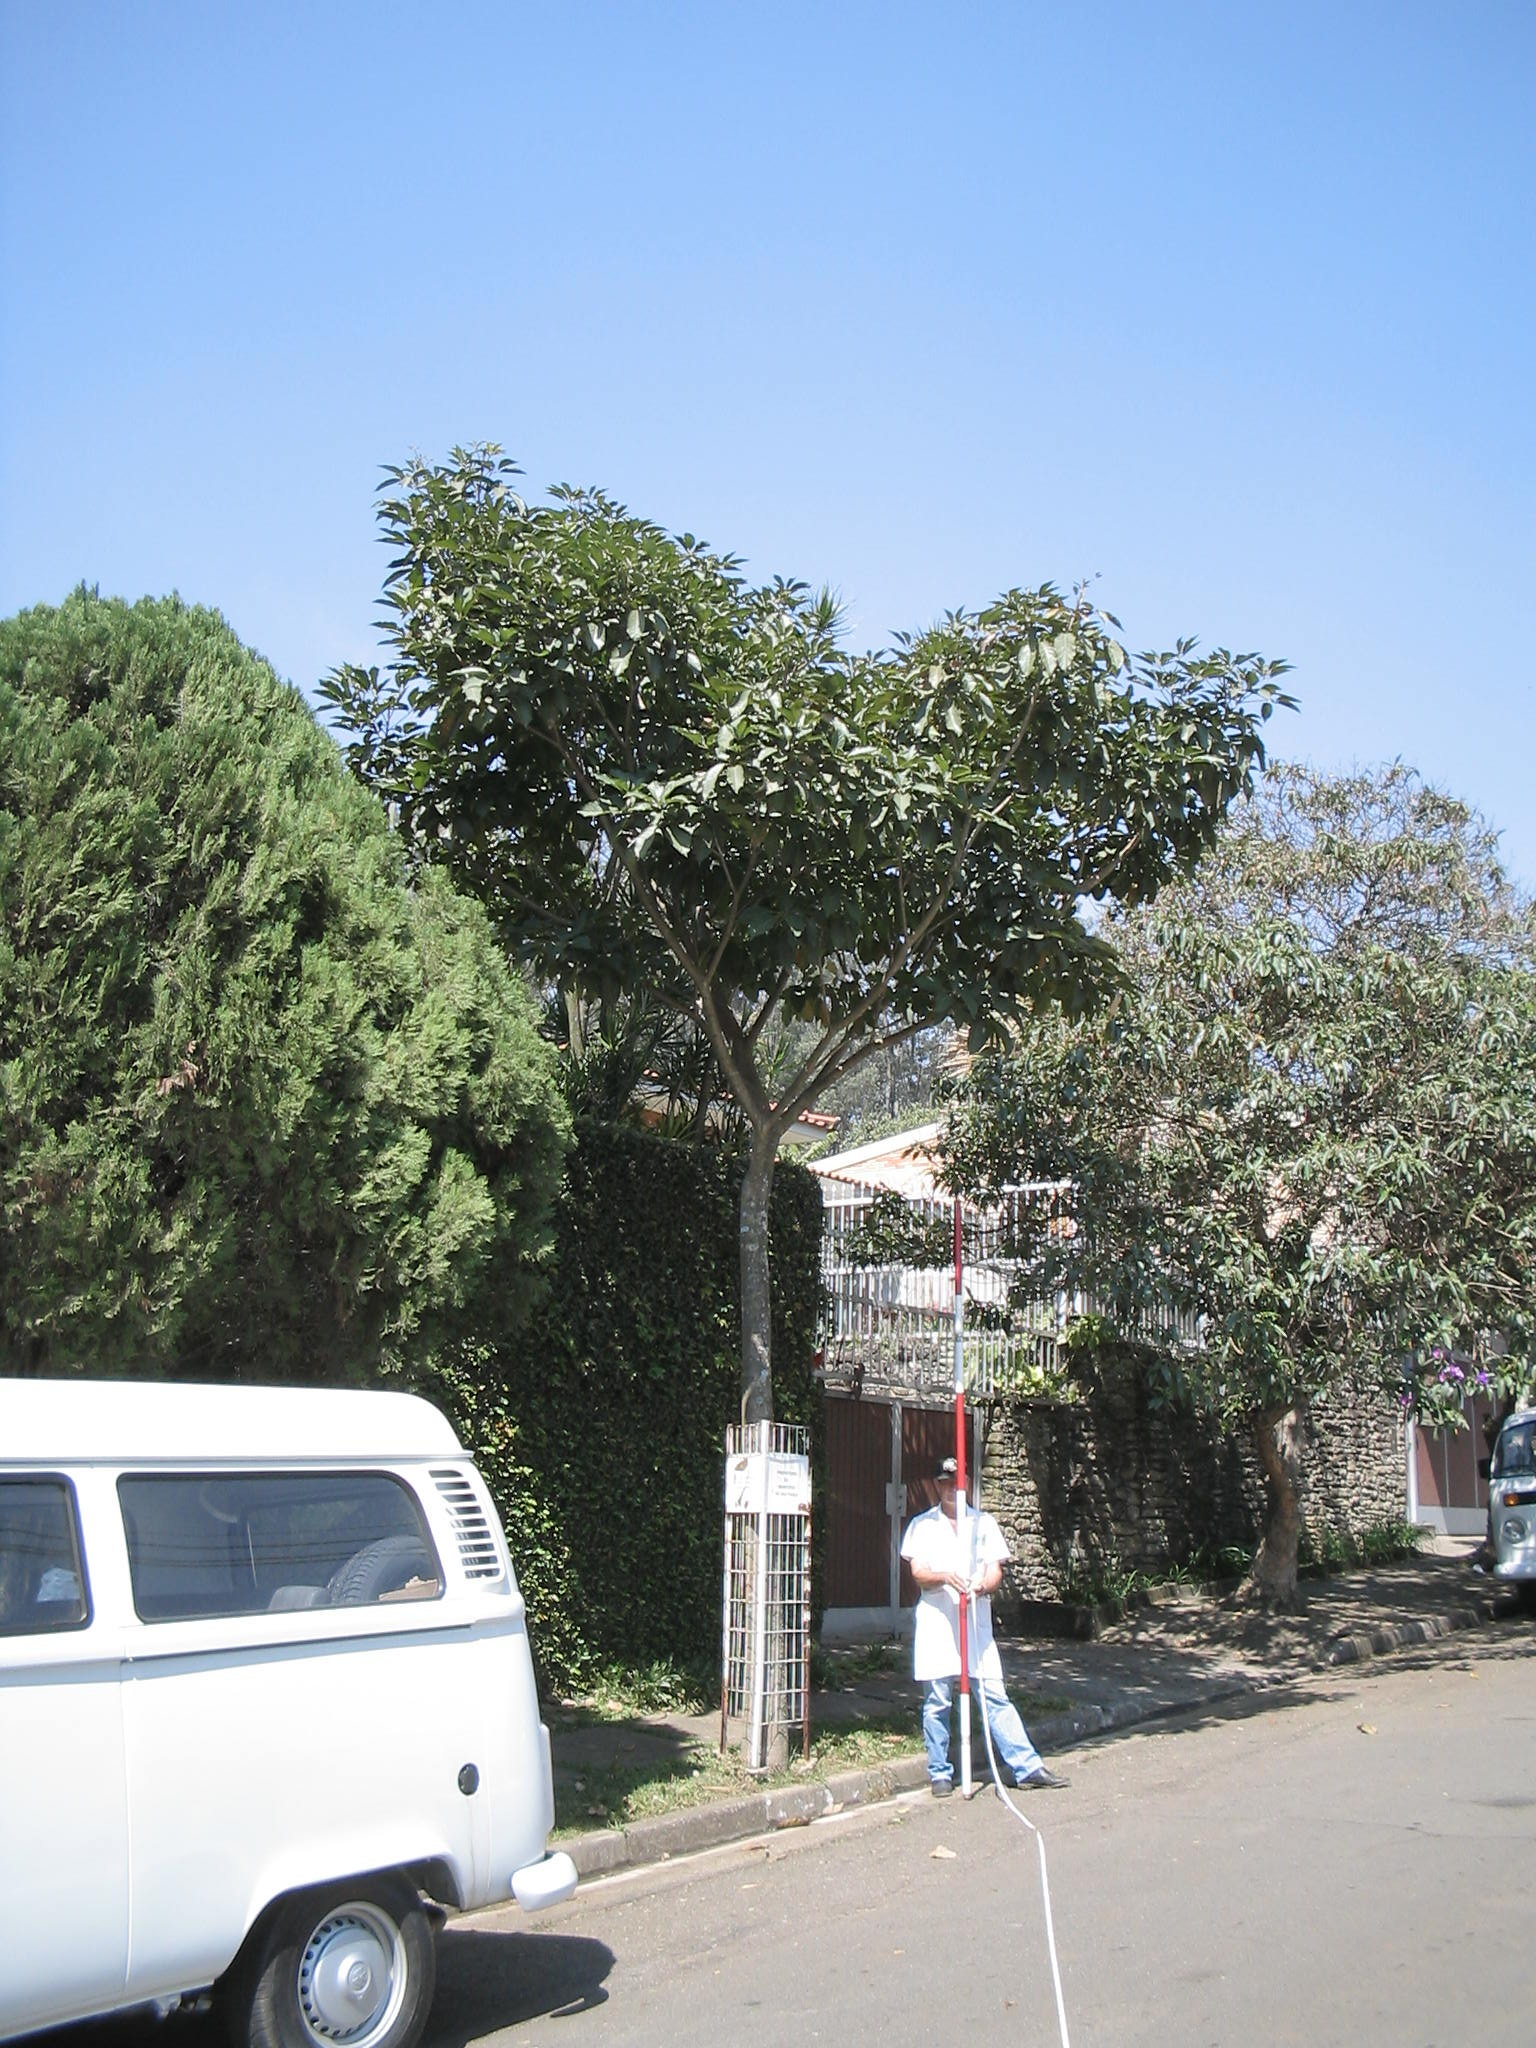crown: (324, 445, 1299, 1105), (965, 779, 1515, 1429)
stem: (682, 1126, 842, 1775), (1207, 1426, 1333, 1605)
stick: (915, 1200, 1000, 1803)
tree: (315, 440, 1304, 1784), (957, 771, 1530, 1611)
